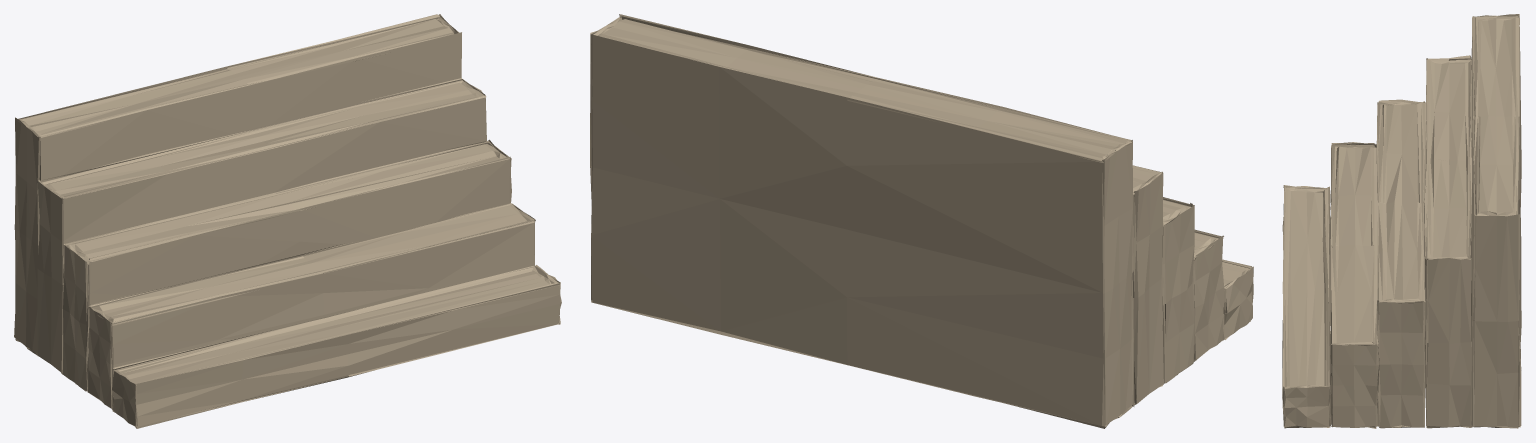
The model's file is SM_Stairs.fbx.
The picture shows the model from 3 angles, left to right: view 1: azimuth 30°, elevation 25°; view 2: azimuth 150°, elevation 25°; view 3: azimuth 270°, elevation 25°; orthographic projection. The views are drawn at different scales.
Parts seen in each view (by area): view 1: SM_Stairs; view 2: SM_Stairs; view 3: SM_Stairs.
Boxes of the visible parts, left/top/right/bottom form: SM_Stairs: left=14, top=14, right=561, bottom=428; SM_Stairs: left=590, top=14, right=1253, bottom=428; SM_Stairs: left=1282, top=14, right=1521, bottom=428.
Size of the model in its own units: 3.03 by 1.51 by 1.52.
